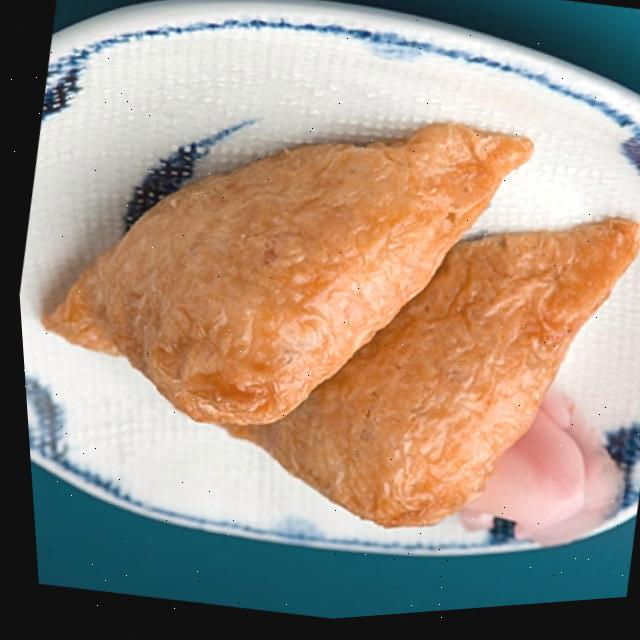寿司卷物: (0, 0, 640, 626)
